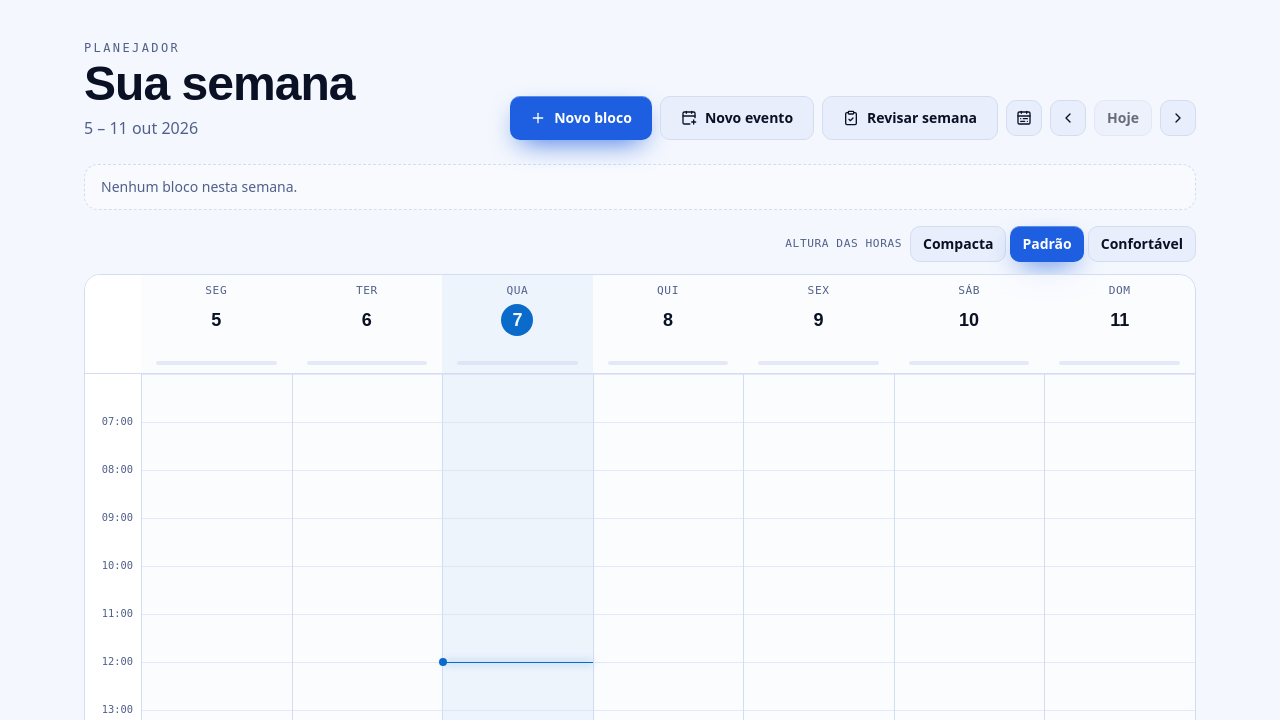
Scenario: WeekPage › navegação entre semanas › avança, volta e guarda a semana na URL
The width and height of the screenshot is (1280, 720).
Expected: the text "5 – 11 out 2026" is shown, [84, 117, 198, 139]
Click the button named "Próxima semana" at point(1178, 118), box [1160, 100, 1196, 136]
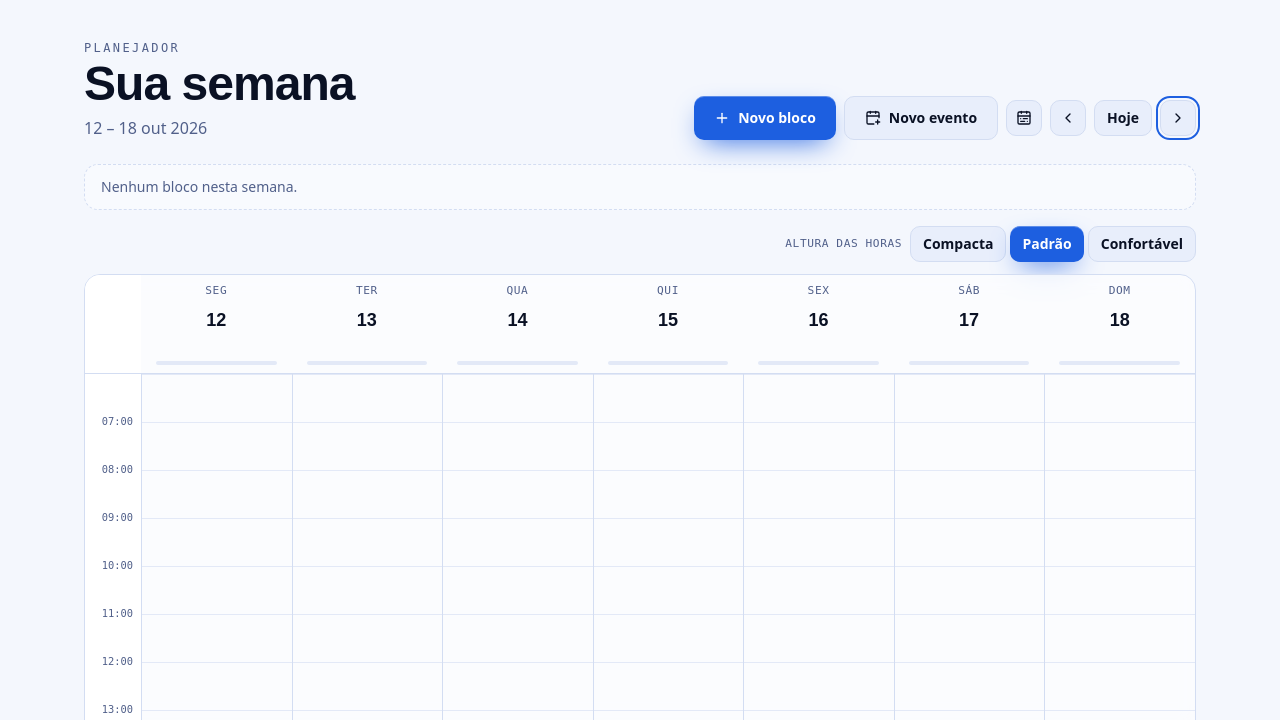
Expected: the text "12 – 18 out 2026" is shown, [84, 117, 207, 139]
Click the button named "Semana anterior" at point(1068, 118), box [1050, 100, 1086, 136]
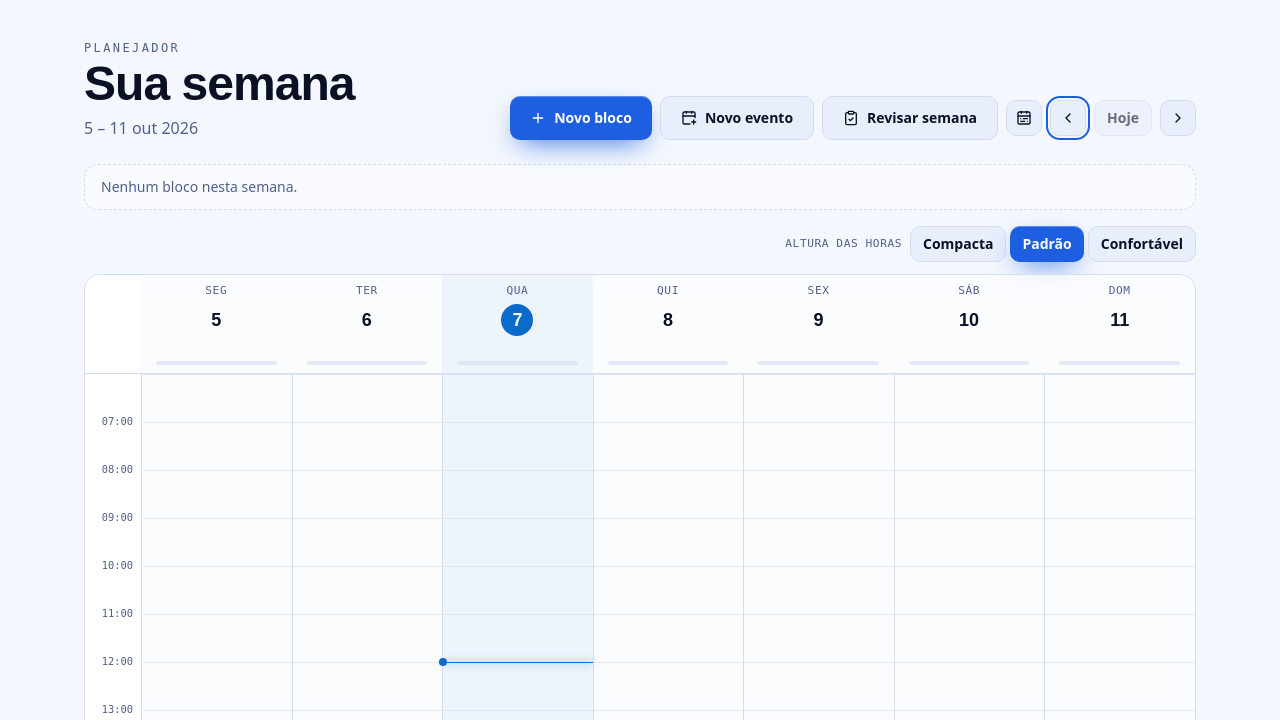
Click the button named "Semana anterior" at point(1068, 118), box [1050, 100, 1086, 136]
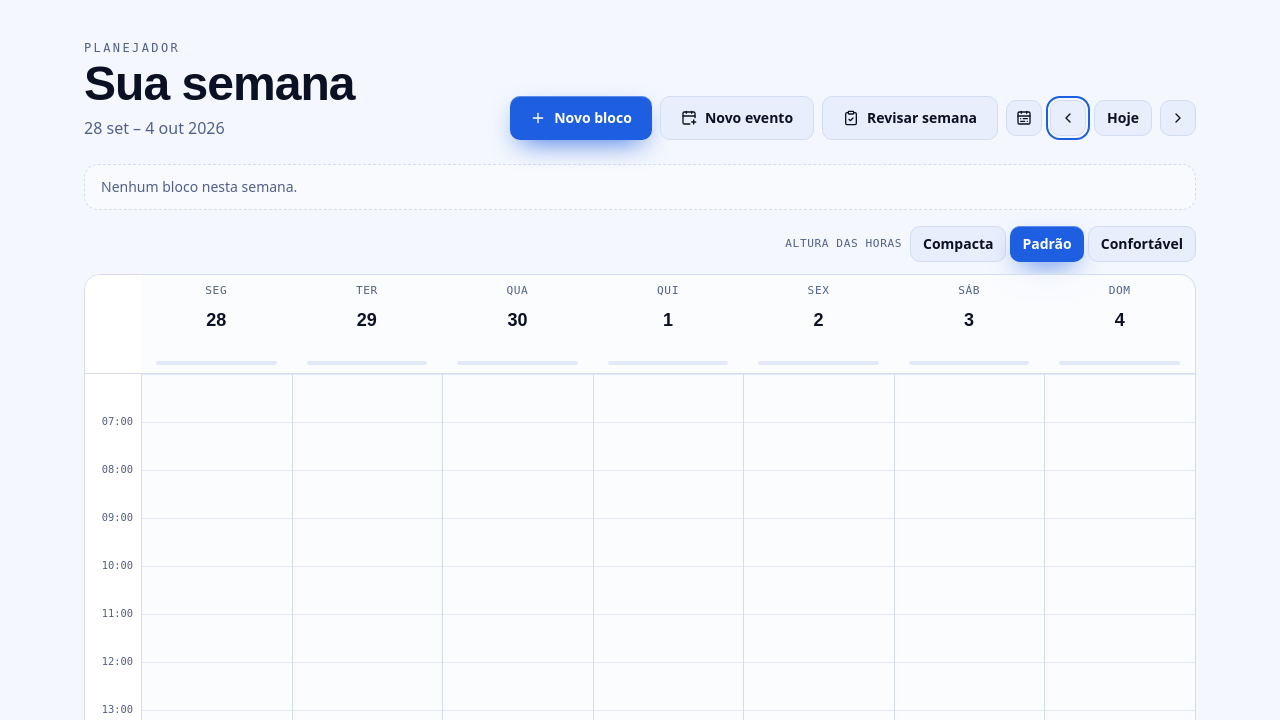
Expected: the text "28 set – 4 out 2026" is shown, [84, 117, 225, 139]
